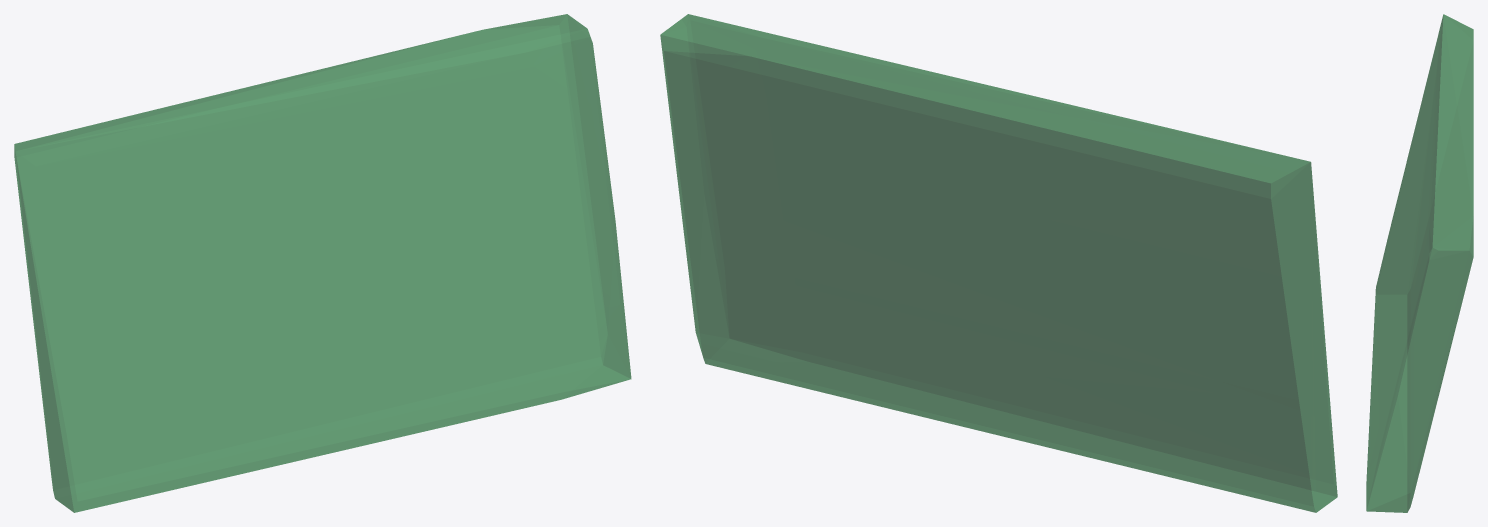
3 renders of one model, left to right at view 1: azimuth 30°, elevation 25°; view 2: azimuth 150°, elevation 25°; view 3: azimuth 270°, elevation 25°, orthographic. The views are drawn at different scales.
Visible parts, largest first — view 1: Shape_IndexedFaceSet.008_Shape_IndexedFaceSet.4681; view 2: Shape_IndexedFaceSet.008_Shape_IndexedFaceSet.4681; view 3: Shape_IndexedFaceSet.008_Shape_IndexedFaceSet.4681.
Boxes of the visible parts, x1,y1,x2,y2 form: Shape_IndexedFaceSet.008_Shape_IndexedFaceSet.4681: (14,14,631,512); Shape_IndexedFaceSet.008_Shape_IndexedFaceSet.4681: (660,14,1337,512); Shape_IndexedFaceSet.008_Shape_IndexedFaceSet.4681: (1366,14,1473,512).
Bounding box in the file's own units: 0.7535 × 0.4221 × 0.1496.
